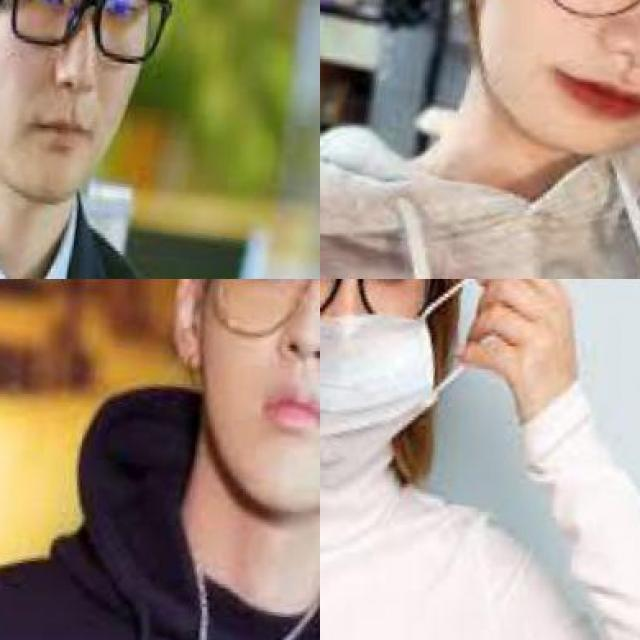Glasses: (0, 0, 181, 72), (197, 279, 318, 382), (508, 0, 640, 82), (320, 279, 456, 336)
